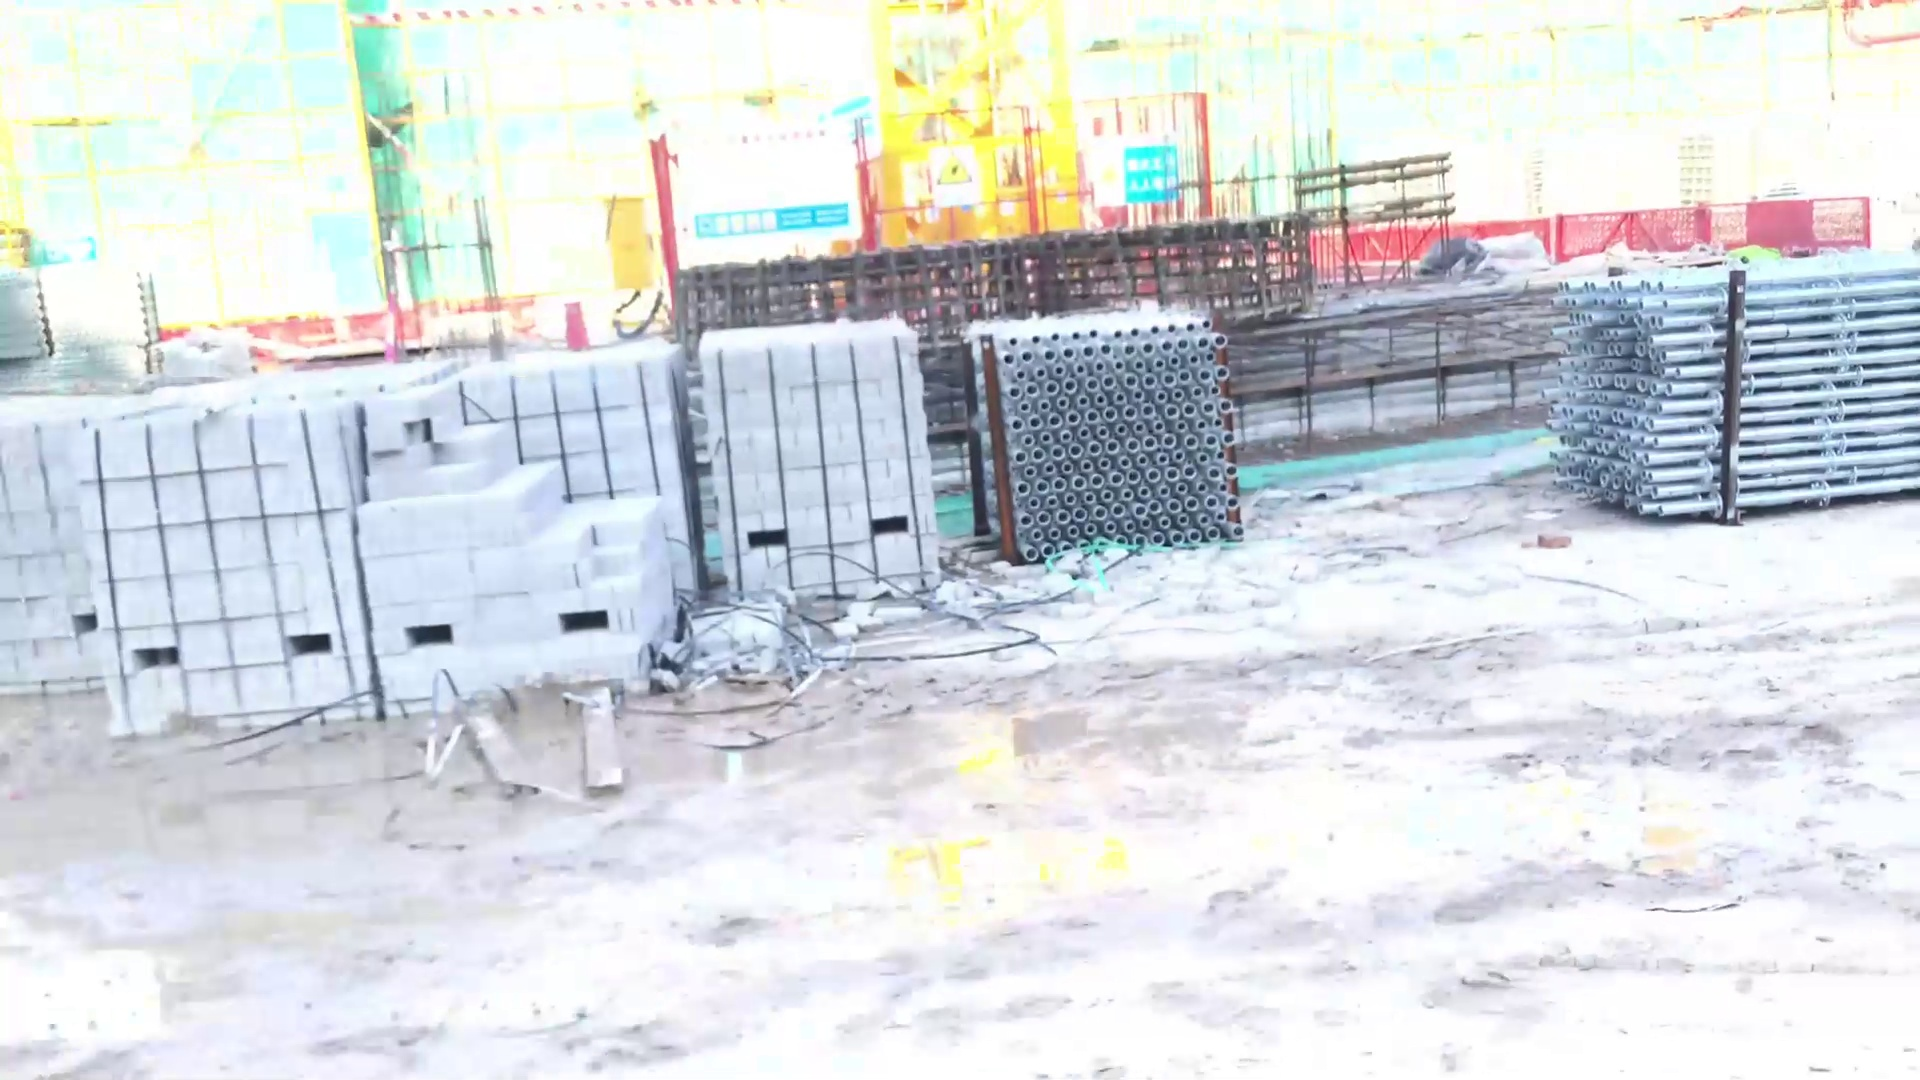brick: (17, 342, 378, 750), (396, 375, 711, 657), (696, 331, 944, 589)
ebox: (593, 189, 663, 301)
fence: (1539, 195, 1880, 252)
scaffold: (1534, 249, 1920, 498), (971, 301, 1244, 559)
